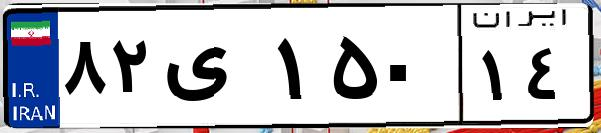0: (385, 28, 445, 110)
1: (270, 28, 330, 110), (475, 38, 525, 113)
2: (110, 28, 158, 98)
4: (525, 38, 570, 115)
5: (330, 28, 385, 110)
8: (57, 26, 110, 100)
ی: (158, 20, 270, 120)
